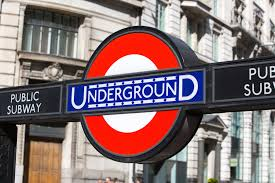London Underground: (71, 31, 203, 162)
